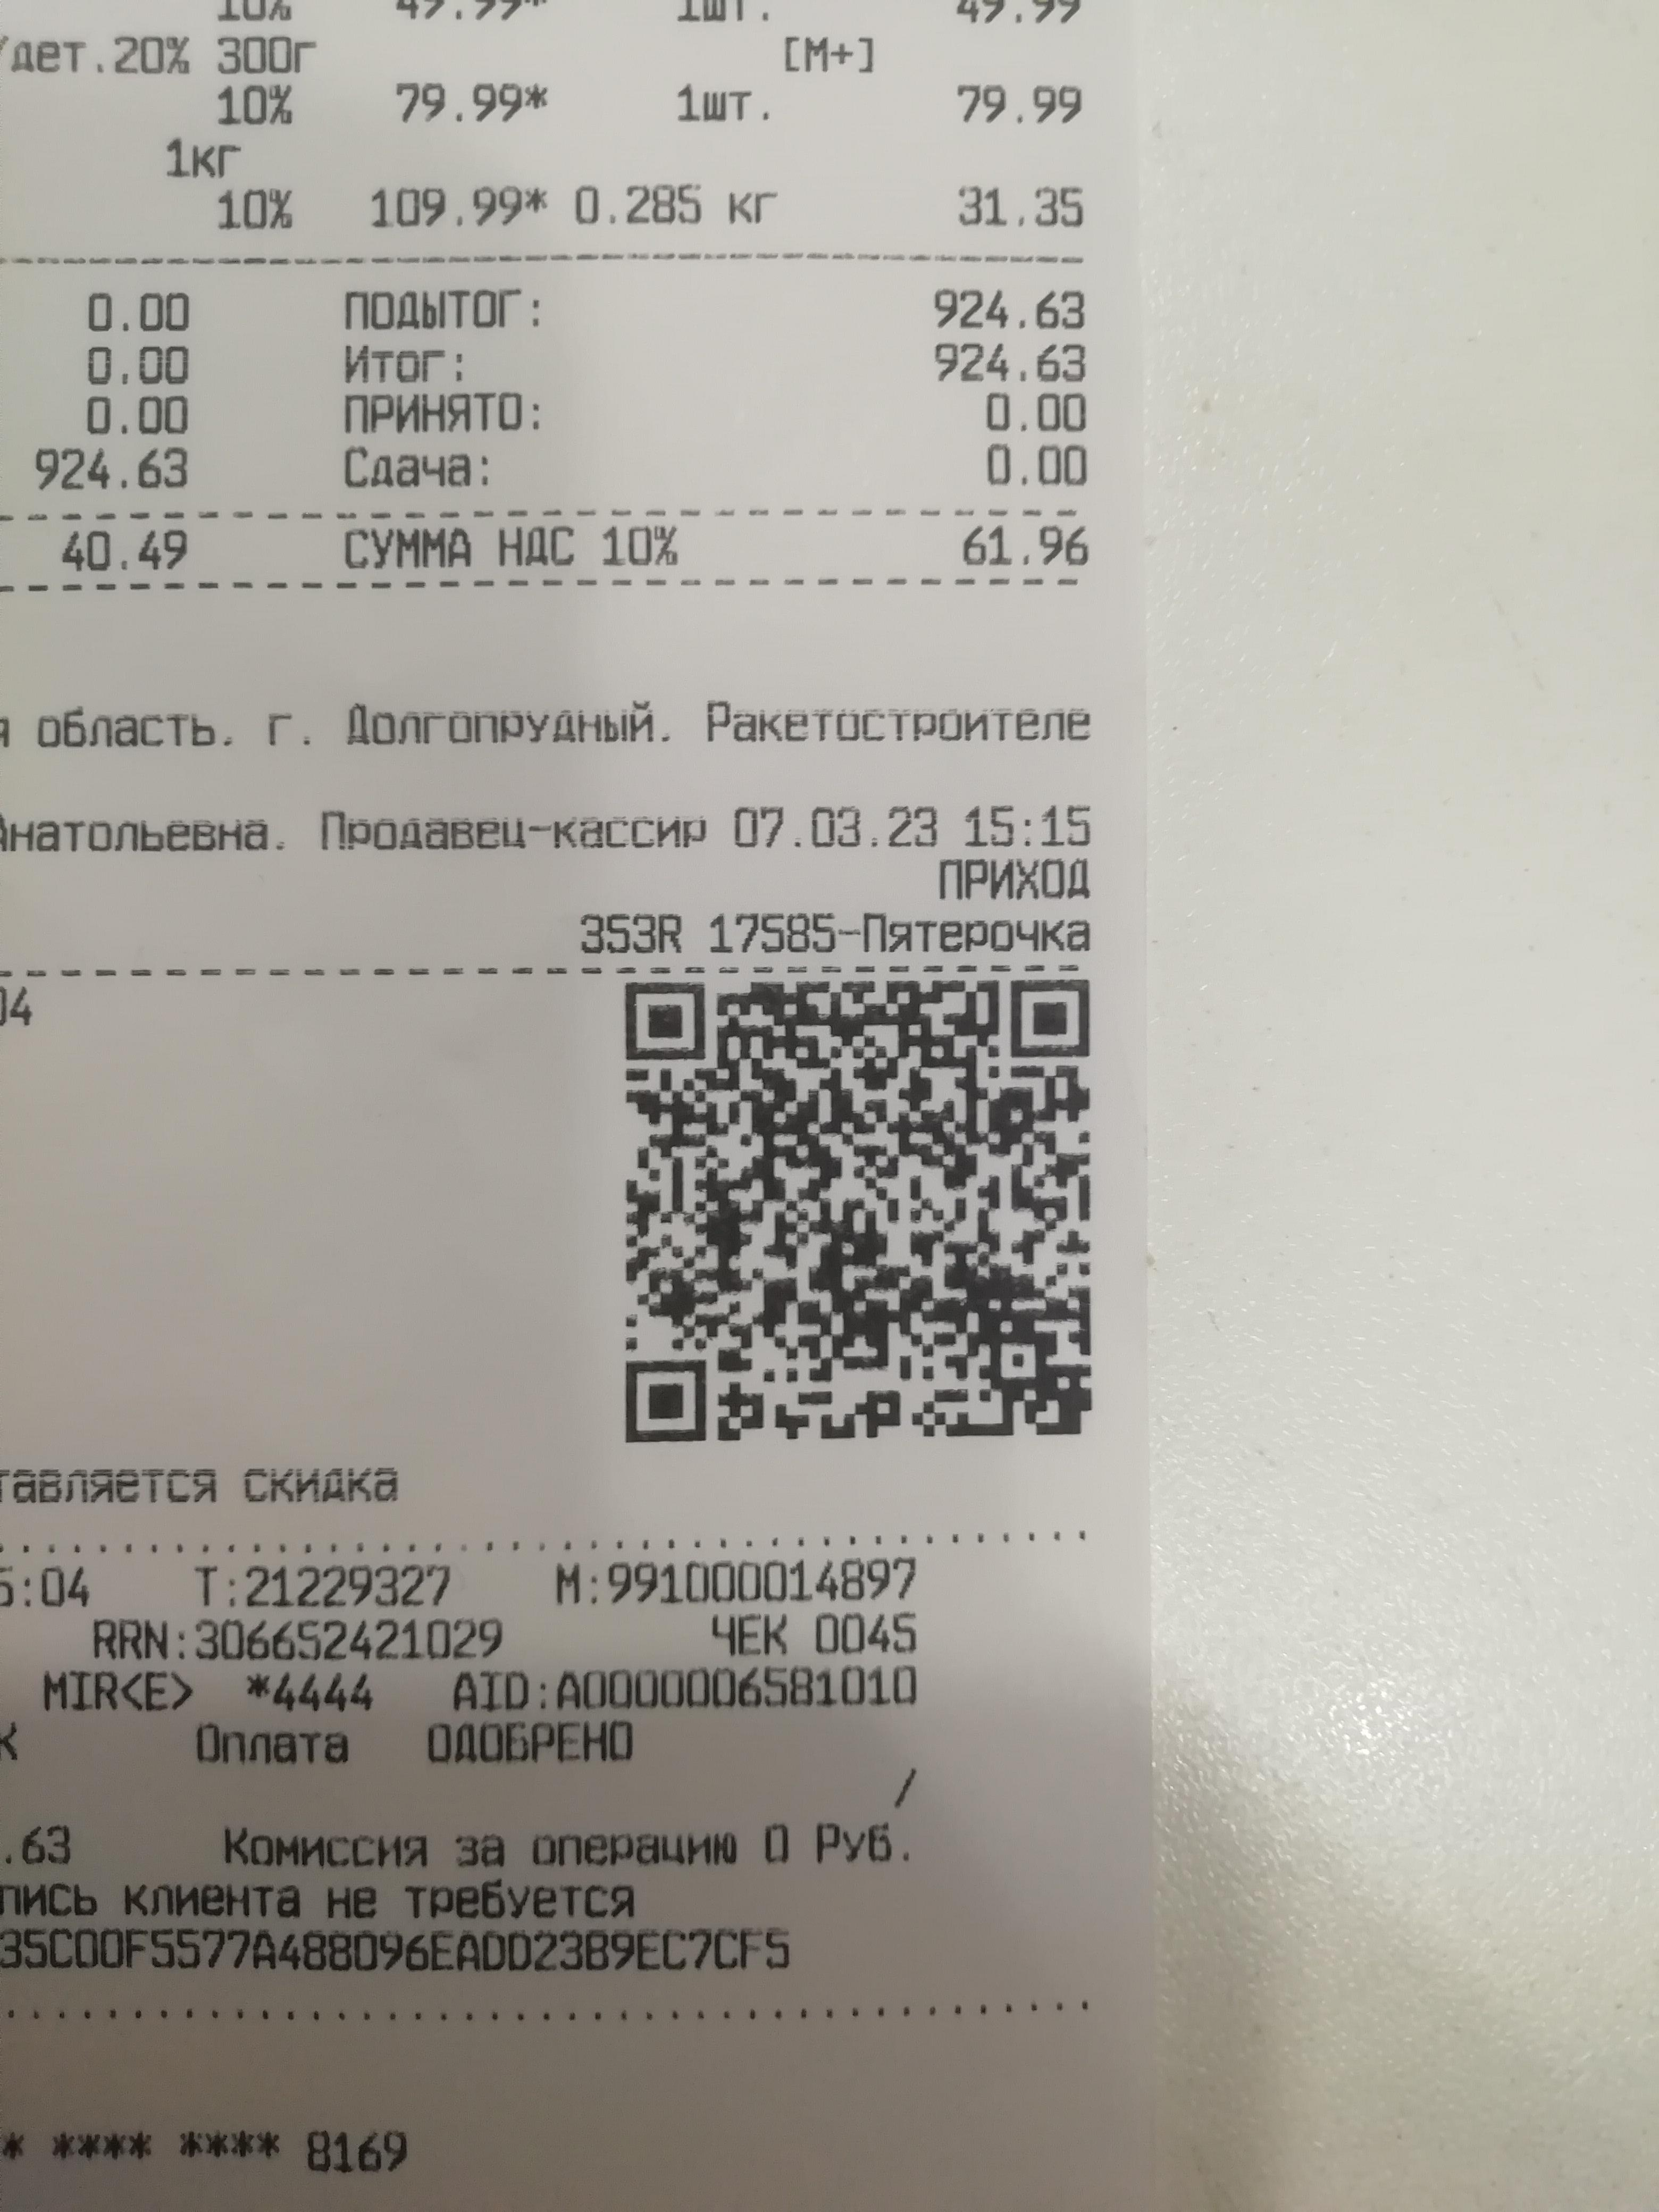qrcode: (622, 977, 1096, 1447)
